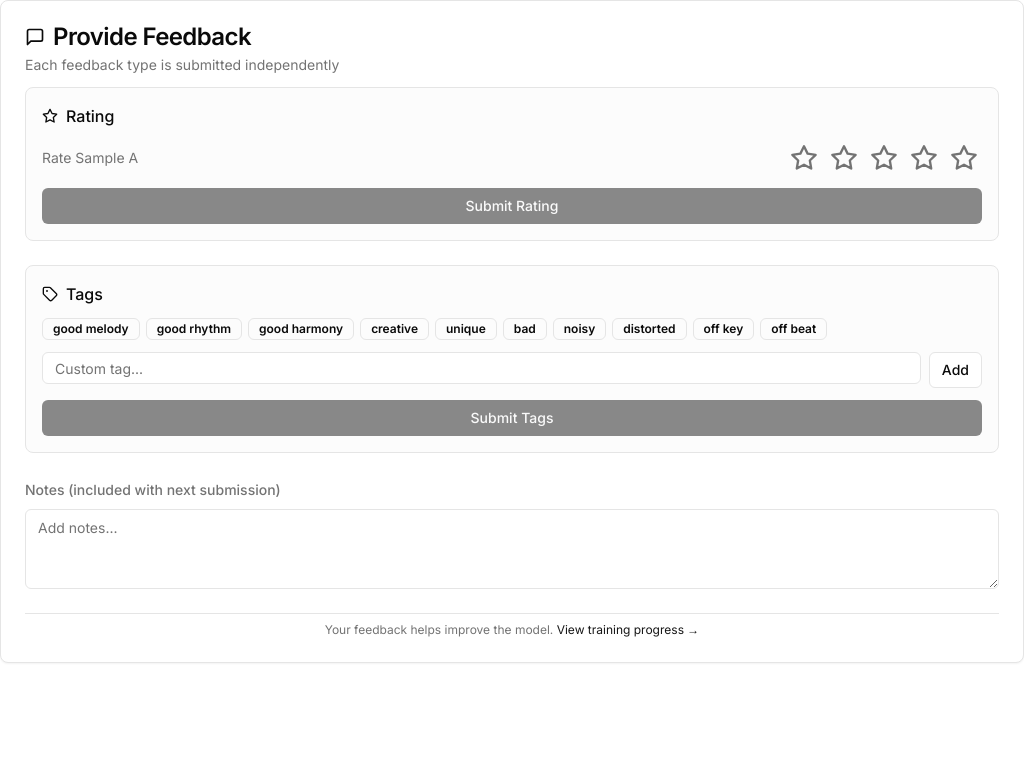
Test case: FeedbackPanel › adds custom tag on enter key
In the field with placeholder "Custom tag...": (481, 368) x1=42 y1=352 x2=921 y2=384, type "my_custom_tag"
Then press Enter
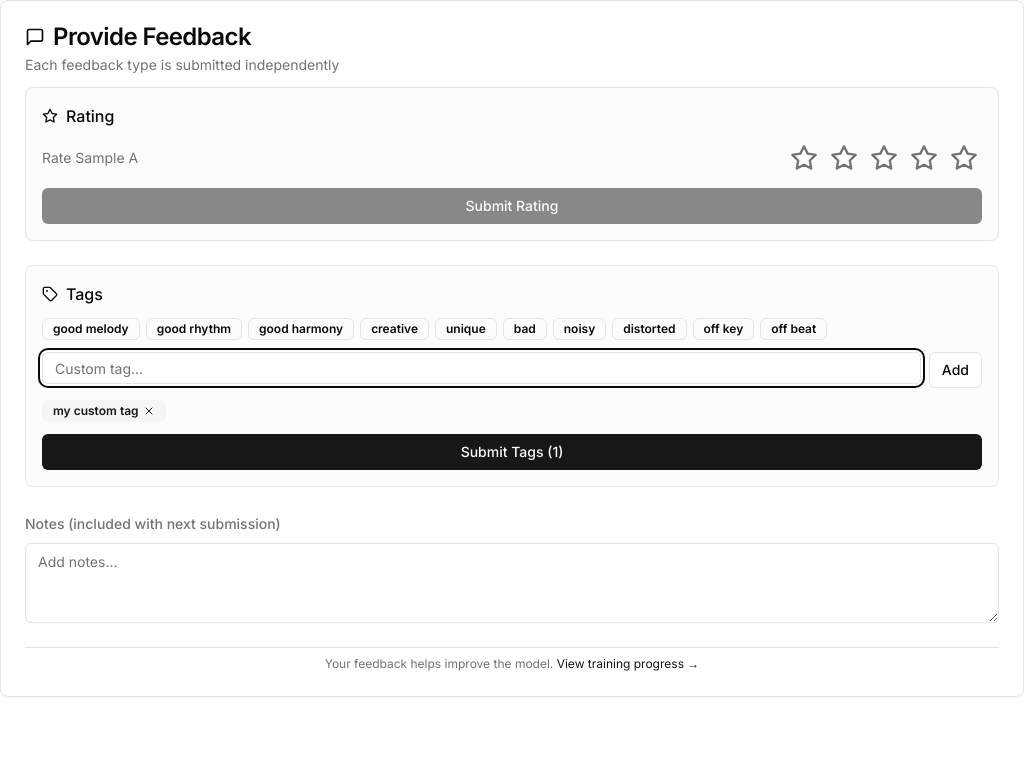
Now the text "my custom tag" is shown, box x1=42 y1=400 x2=166 y2=422
